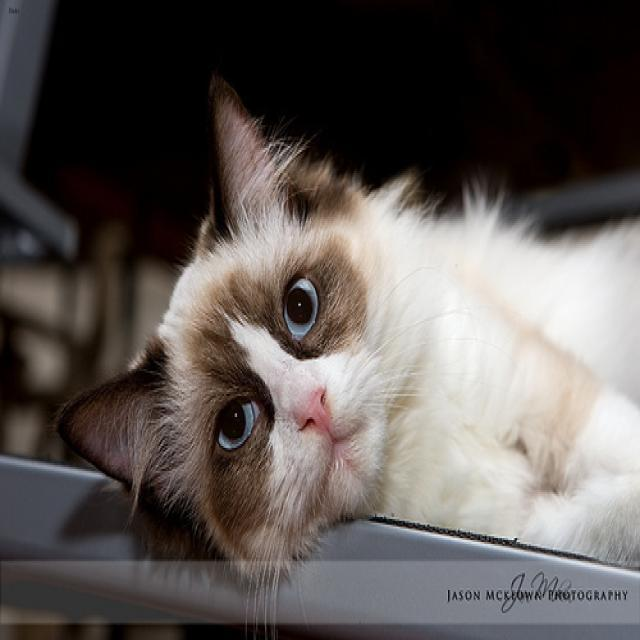Ragdoll: (54, 75, 383, 557)
